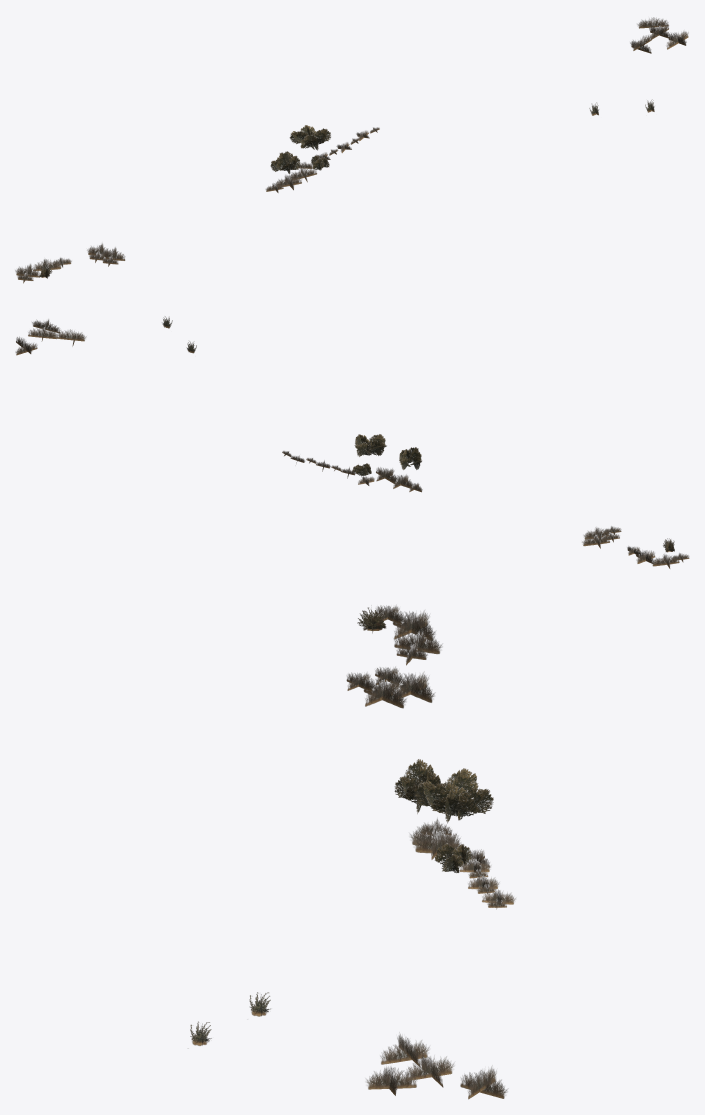
The model's file is 0502worlddeserttransparent_worlddeserttransparentmaterial_0_lev.glb.
3 renders of one model, top to bottom at view 1: azimuth 30°, elevation 25°; view 2: azimuth 150°, elevation 25°; view 3: azimuth 270°, elevation 25°, orthographic. The views are drawn at different scales.
Parts seen in each view (by area): view 1: 0502worlddeserttransparent_worlddeserttransparentmaterial_0_; view 2: 0502worlddeserttransparent_worlddeserttransparentmaterial_0_; view 3: 0502worlddeserttransparent_worlddeserttransparentmaterial_0_.
Boxes of the visible parts, x1=… form: 0502worlddeserttransparent_worlddeserttransparentmaterial_0_: x1=15, y1=17, x2=688, y2=283; 0502worlddeserttransparent_worlddeserttransparentmaterial_0_: x1=15, y1=316, x2=689, y2=568; 0502worlddeserttransparent_worlddeserttransparentmaterial_0_: x1=188, y1=604, x2=516, y2=1099.
Bounding box in the file's own units: 31.67 × 4.21 × 6.94.
1 material, 1 textured.
